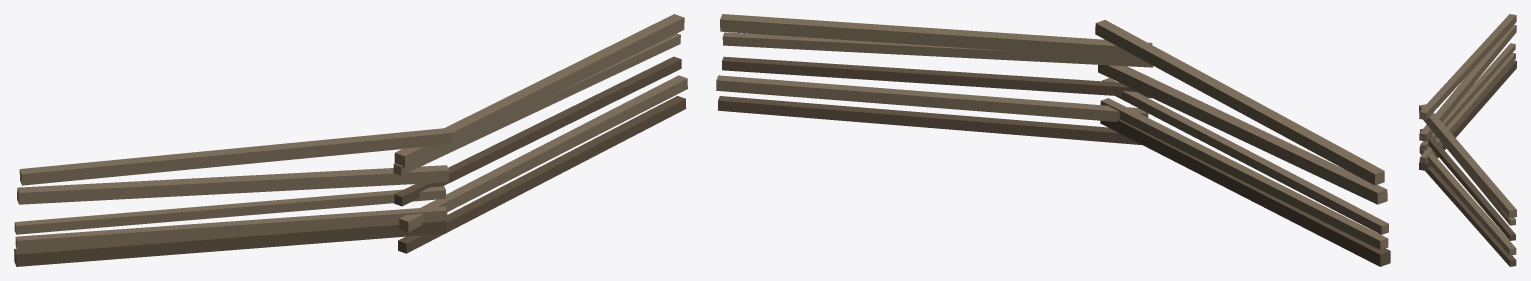
File: worm_b.glb
The picture shows the model from 3 angles, left to right: view 1: azimuth 30°, elevation 25°; view 2: azimuth 150°, elevation 25°; view 3: azimuth 270°, elevation 25°; orthographic projection. The views are drawn at different scales.
Parts seen in each view (by area): view 1: worm_b; view 2: worm_b; view 3: worm_b.
Boxes of the visible parts, x1,y1,x2,y2 form: worm_b: (14, 14, 687, 266); worm_b: (716, 14, 1390, 266); worm_b: (1419, 14, 1516, 266).
Bounding box in the file's own units: 6.57 × 1.03 × 1.38.
